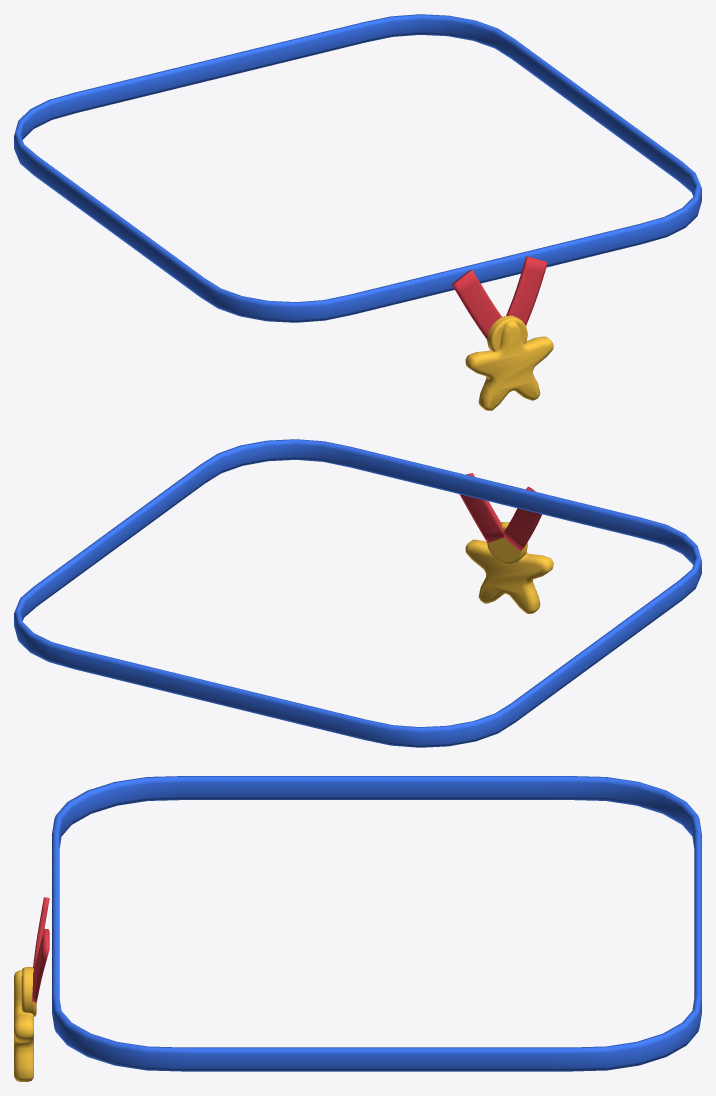
Rendered from star_medal.glb.
3 views of the same model, one above another, from view 1: azimuth 30°, elevation 25°; view 2: azimuth 150°, elevation 25°; view 3: azimuth 270°, elevation 25° (orthographic). The views are drawn at different scales.
Parts seen in each view (by area): view 1: band, star, v.001, v, loop; view 2: band, star, v, v.001, loop; view 3: band, star, v, loop.
Boxes of the visible parts, x1=… form: band: x1=14, y1=14, x2=701, y2=322; star: x1=465, y1=320, x2=553, y2=410; v.001: x1=452, y1=269, x2=501, y2=339; v: x1=506, y1=256, x2=547, y2=325; loop: x1=487, y1=315, x2=527, y2=351; band: x1=14, y1=439, x2=701, y2=747; star: x1=465, y1=522, x2=553, y2=613; v: x1=459, y1=473, x2=503, y2=542; v.001: x1=504, y1=486, x2=541, y2=550; loop: x1=487, y1=522, x2=527, y2=563; band: x1=52, y1=776, x2=701, y2=1071; star: x1=14, y1=970, x2=33, y2=1081; v: x1=32, y1=929, x2=49, y2=1003; loop: x1=21, y1=967, x2=36, y2=1016.
Size of the model in its own units: 1.29 by 0.3423 by 1.36.
